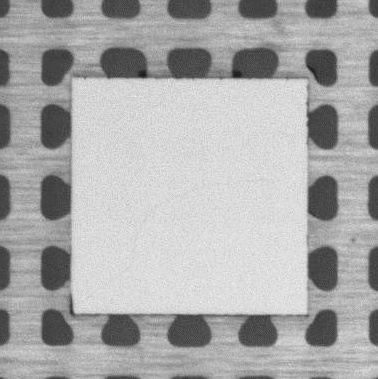DIE_CRACK: (76, 176, 275, 306)
